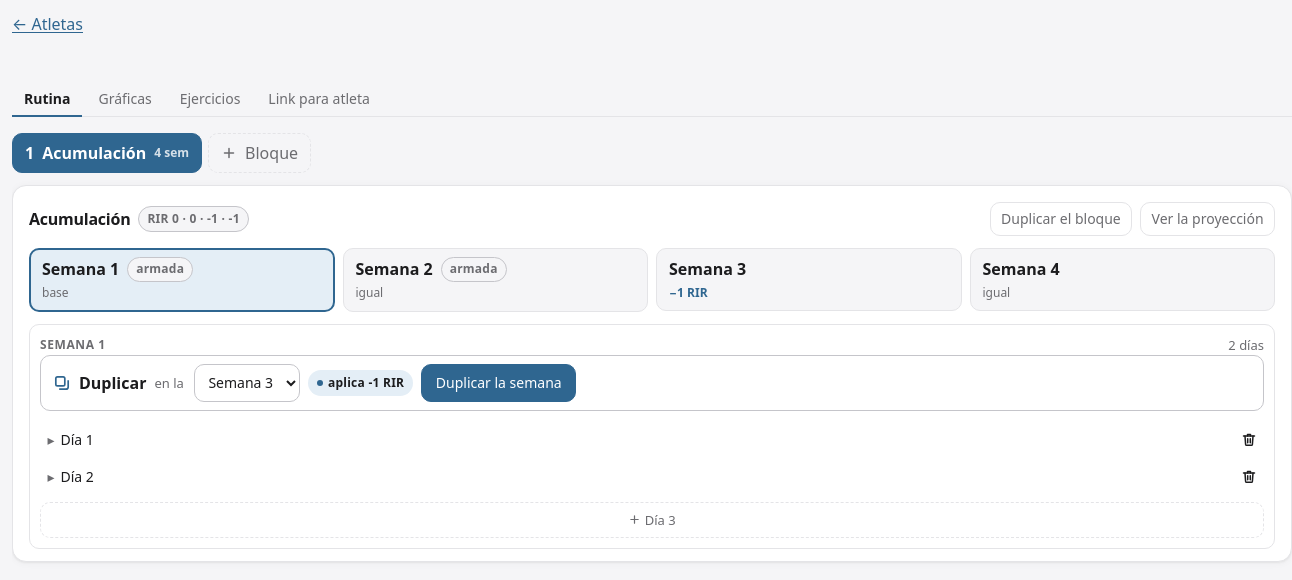
el riel de semanas › abre una sola, y el riel dice cuál
Expected: the heading "Semana 1" is shown, [40,337,106,352]
Click the button "Semana 3 −1 RIR" at coordinates (703, 269), box [656,248,962,311]
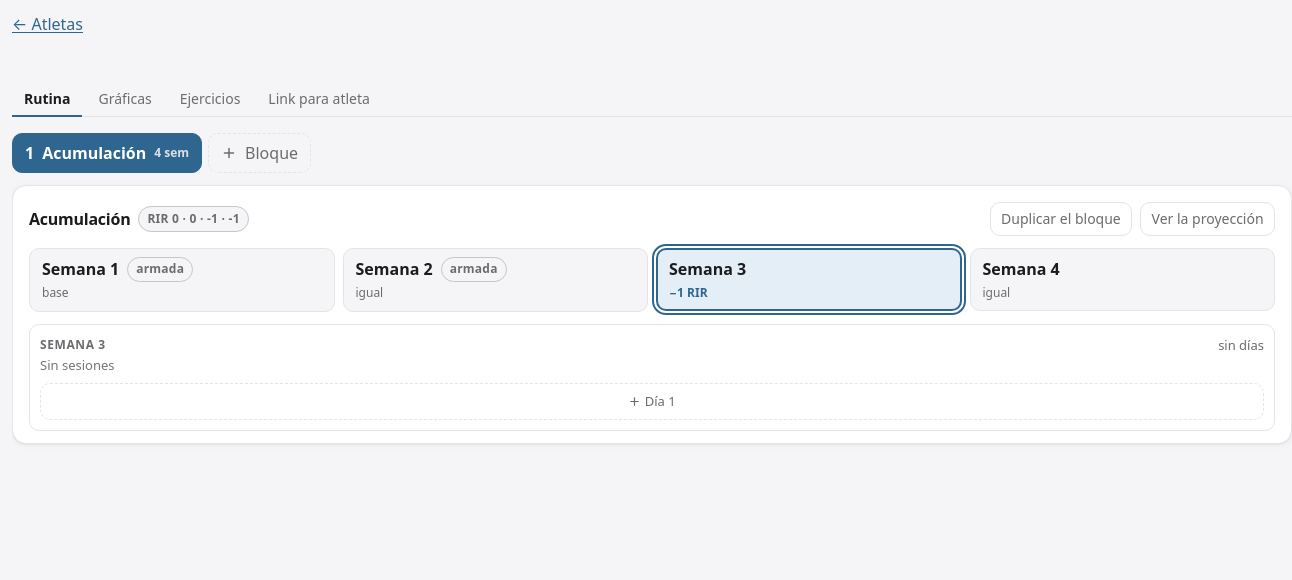
Result: the heading "Semana 3" is shown at [40,337,106,352]
